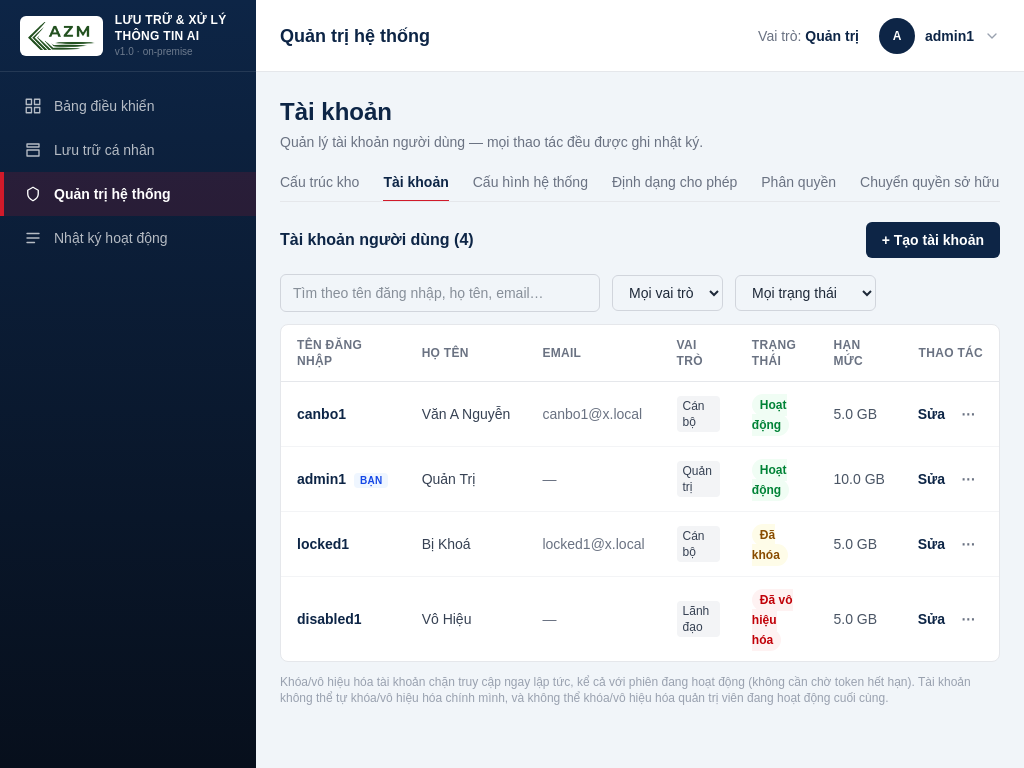
Test: AccountsAdminPage › filters the list by text, role and status
The image size is (1024, 768).
Expected: the text "canbo1" is shown, [281,382,406,446]
Select "Đã khóa" in the dropdown named "Lọc theo trạng thái" at point(806, 293), box [735,275,876,311]
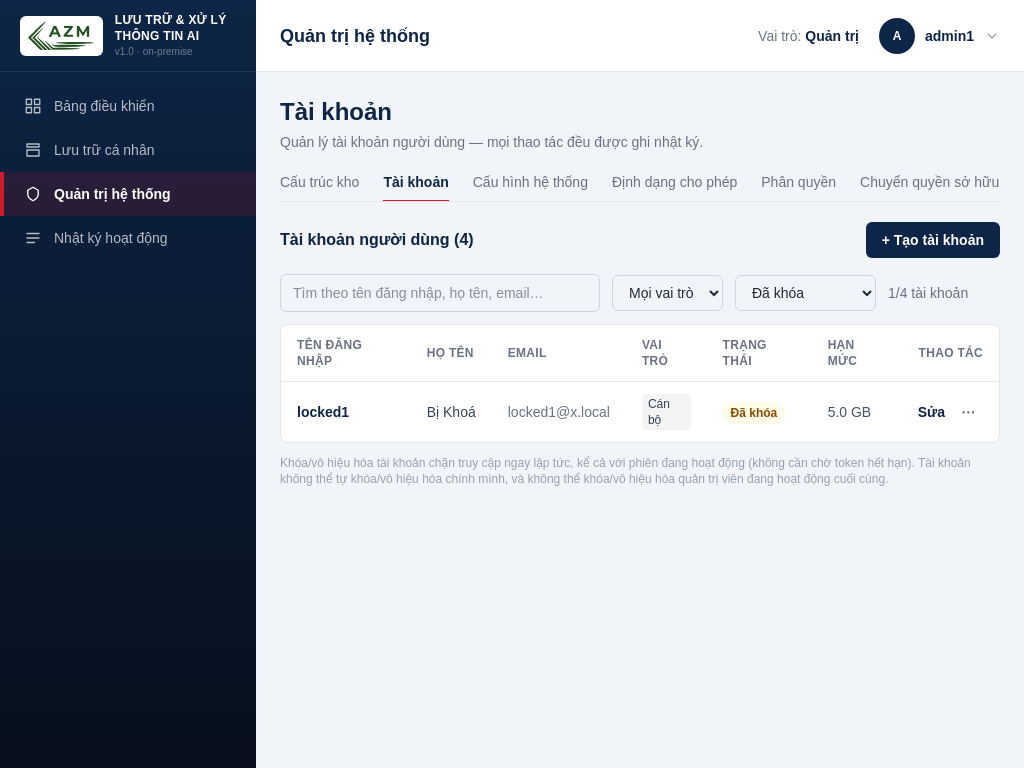
Expected: the text "locked1" is shown, [281,382,411,442]
Expected: the text "canbo1" is gone
Select "Mọi trạng thái" in the dropdown named "Lọc theo trạng thái" at point(806, 293), box [735,275,876,311]
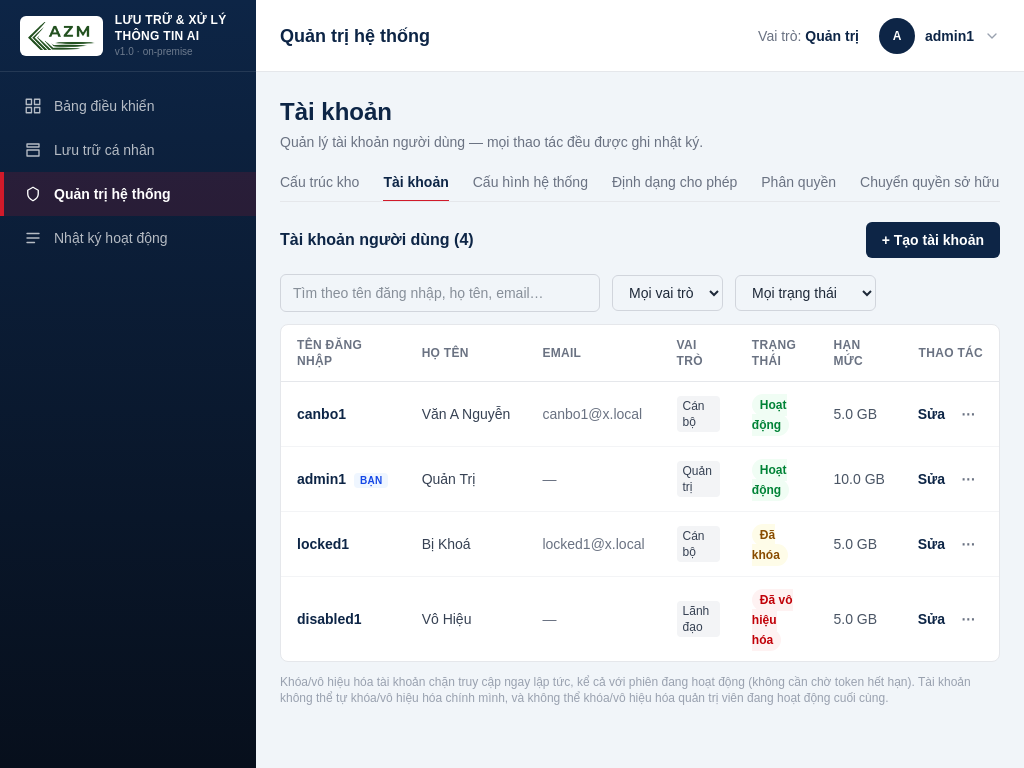
Type "không-có-ai" into the search field named "Tìm tài khoản" at point(440, 293), box [280,274,600,312]
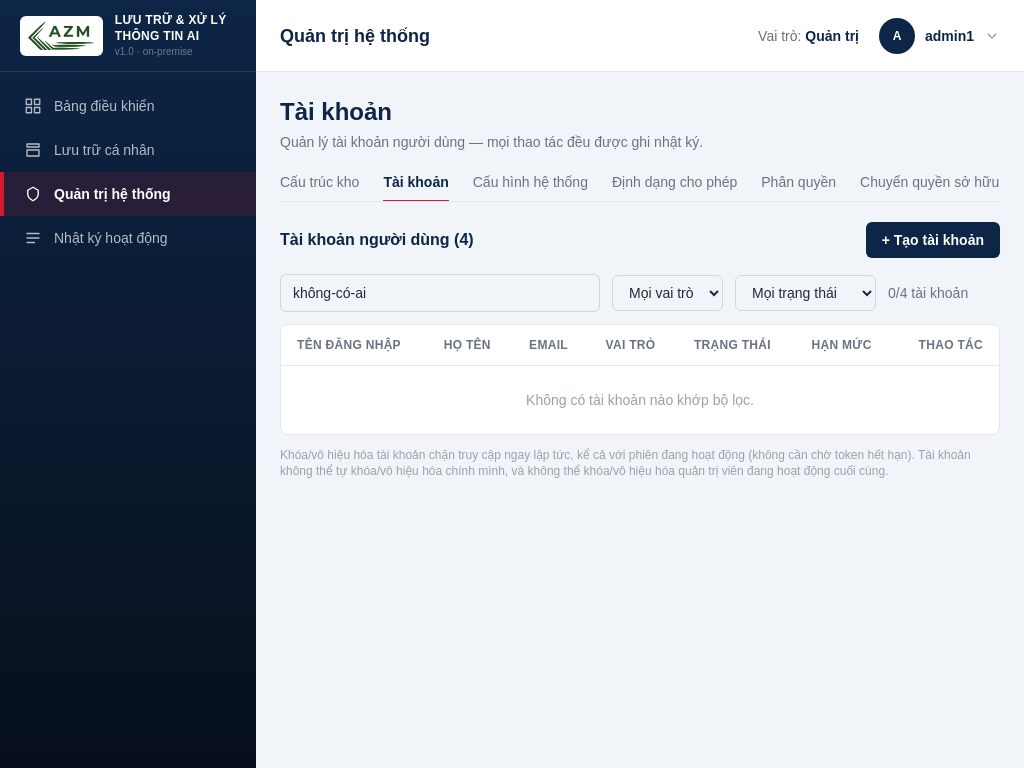
Expected: the text "Không có tài khoản nào khớp bộ lọc." is shown, [281,366,999,434]
